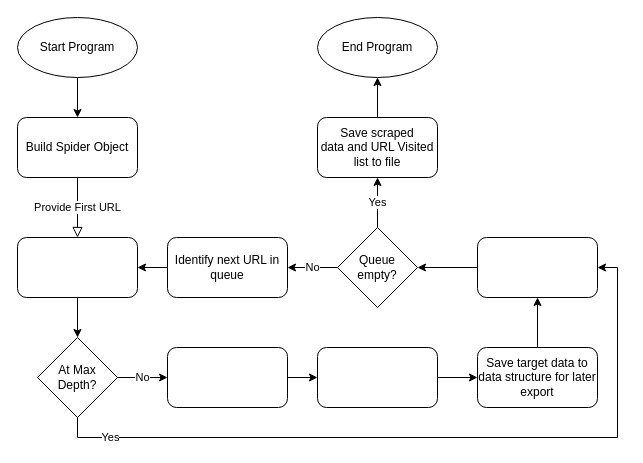
This 643x463 diagram has some shape labels left out. Each missing label, with the box of its shape:
Collect and save page HTML: (166, 346, 288, 408)
Save current URL to visited list: (476, 236, 598, 298)
Scrape HTML for all target data: (316, 346, 438, 408)
Start Crawl: (16, 236, 138, 298)
